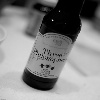beer: (24, 1, 83, 94)
